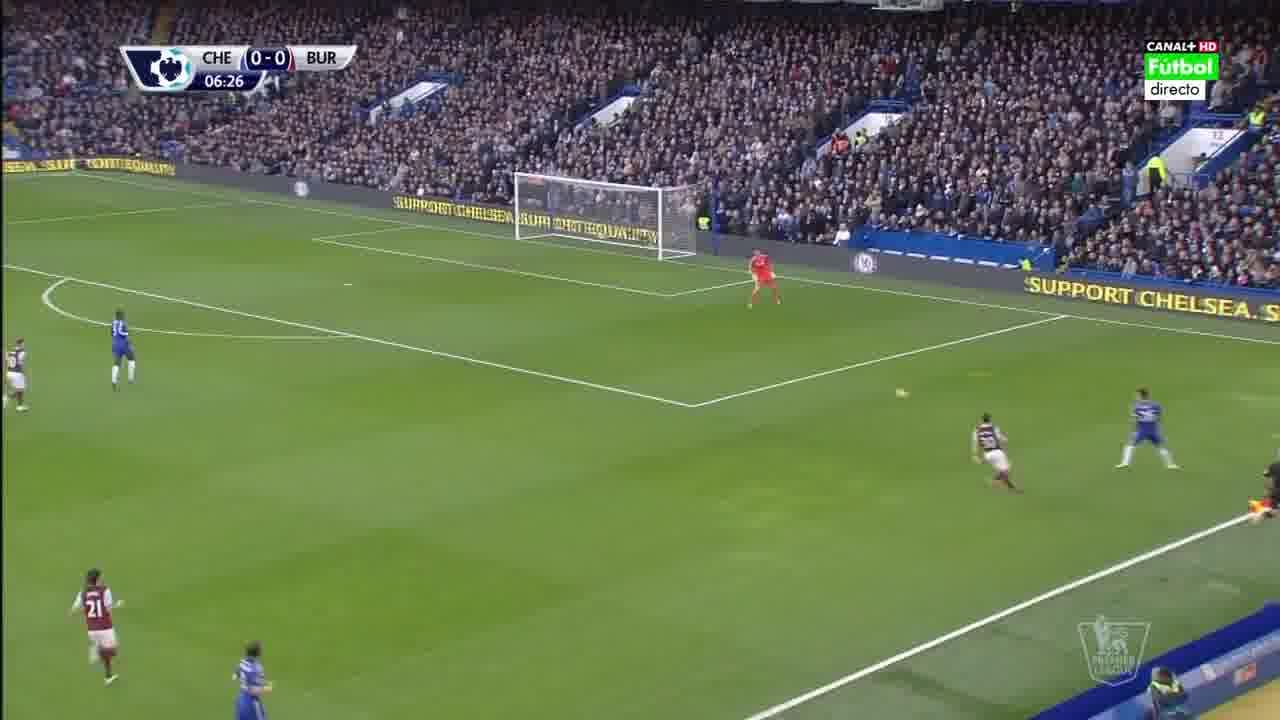football: (896, 389, 910, 400)
